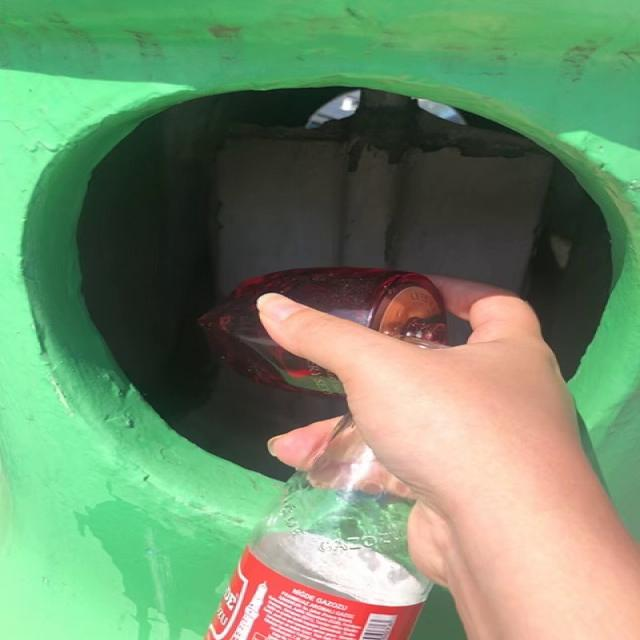glass: (205, 415, 432, 640), (211, 415, 431, 640), (200, 268, 448, 394), (371, 273, 448, 348)
